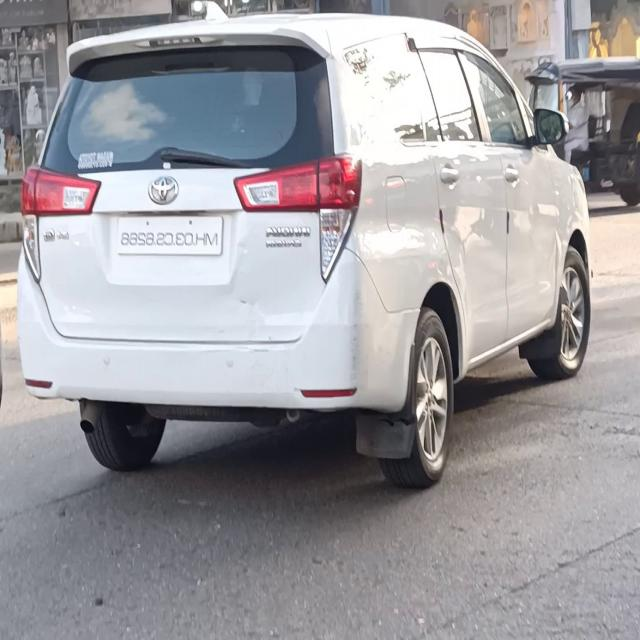license_plate: (111, 205, 232, 269)
